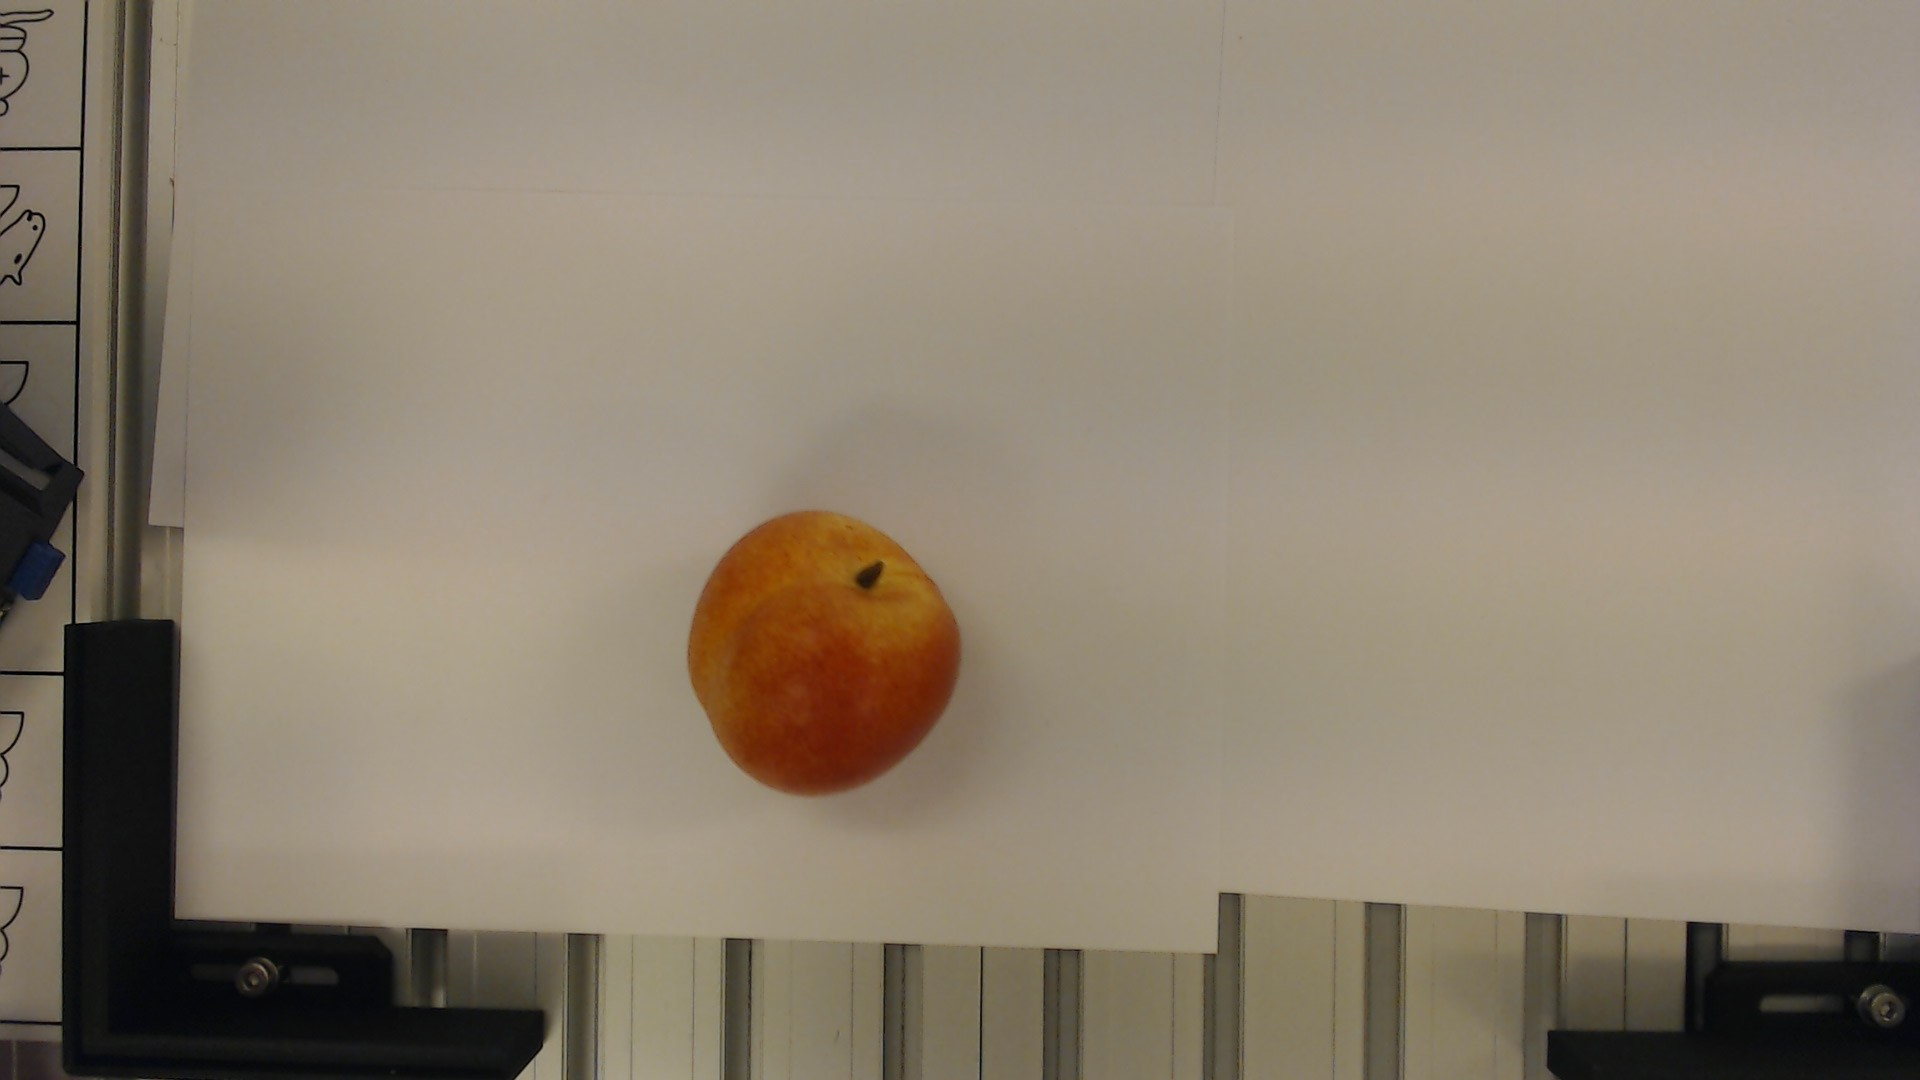Peach: (682, 512, 971, 796)
